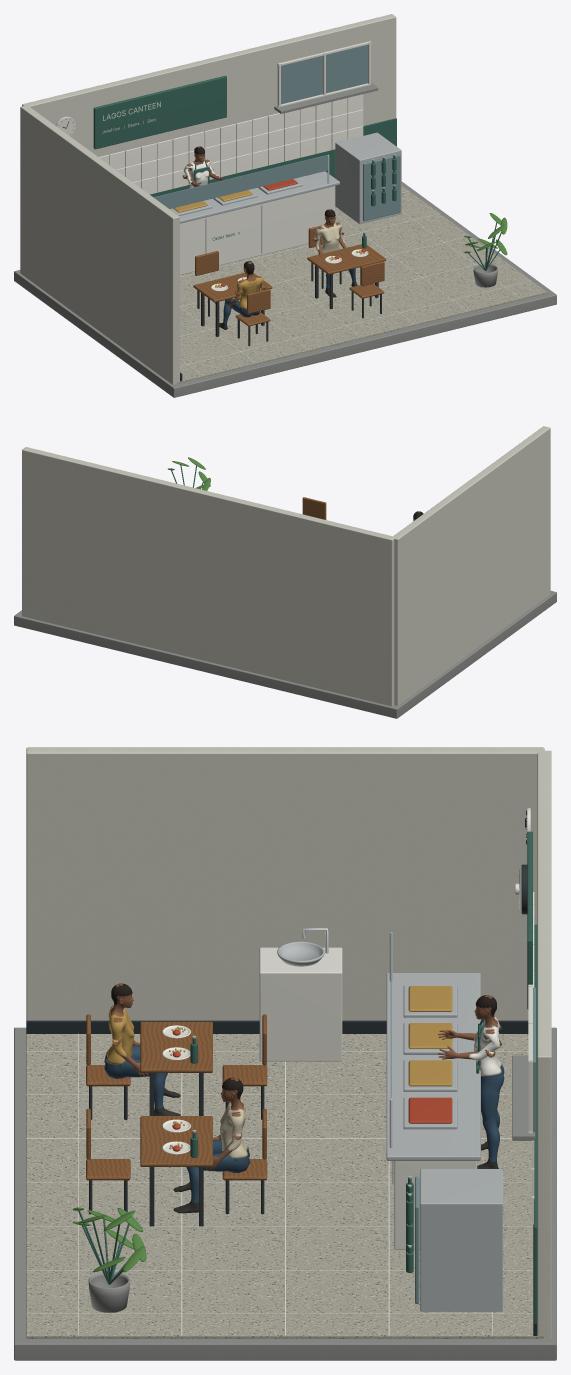
File: lagos-canteen.glb
The picture shows the model from 3 angles, top to bottom: view 1: azimuth 30°, elevation 25°; view 2: azimuth 150°, elevation 25°; view 3: azimuth 270°, elevation 25°; orthographic projection. The views are drawn at different scales.
Parts seen in each view (by area): view 1: Finished floor, Side wall, Rear wall, Floor slab, Serving cabinet, Menu panel, Window glass, Undercounter fridge, Service screen, Fridge door, Stainless counter, Green painted dado (+9 smaller); view 2: Rear wall, Side wall, Floor slab, Chair back.002; view 3: Side wall, Finished floor, Floor slab, Undercounter fridge, Stainless counter, Rear wall, Wash station, Oak table top, Side skirting, Oak table top.001, Serving cabinet, Window sill (+19 smaller).
Part boxes in pixels (box(x1,y1,x2,y2)): Finished floor: box(176, 186, 547, 383); Side wall: box(20, 105, 179, 384); Rear wall: box(22, 14, 396, 172); Floor slab: box(14, 181, 556, 397); Serving cabinet: box(180, 186, 335, 274); Menu panel: box(93, 75, 226, 149); Window glass: box(277, 45, 367, 104); Undercounter fridge: box(335, 132, 401, 223); Service screen: box(154, 155, 327, 208); Fridge door: box(363, 154, 400, 221); Stainless counter: box(179, 171, 339, 223); Green painted dado: box(150, 118, 396, 197); Rear wall: box(22, 447, 394, 706); Side wall: box(393, 426, 550, 705); Floor slab: box(14, 591, 556, 718); Chair back.002: box(302, 497, 326, 519); Side wall: box(26, 747, 544, 1020); Finished floor: box(26, 1034, 543, 1338); Floor slab: box(14, 1027, 556, 1360); Undercounter fridge: box(420, 1169, 502, 1311); Stainless counter: box(386, 973, 480, 1160); Rear wall: box(537, 750, 551, 1338); Wash station: box(259, 947, 342, 1061); Oak table top: box(140, 1021, 212, 1072); Side skirting: box(26, 1020, 528, 1033); Oak table top.001: box(140, 1116, 212, 1166); Serving cabinet: box(394, 1161, 477, 1249); Window sill: box(512, 1055, 535, 1140).
Size of the model in its own units: 7.24 by 3.18 by 5.24.
20 materials, 4 textured.
